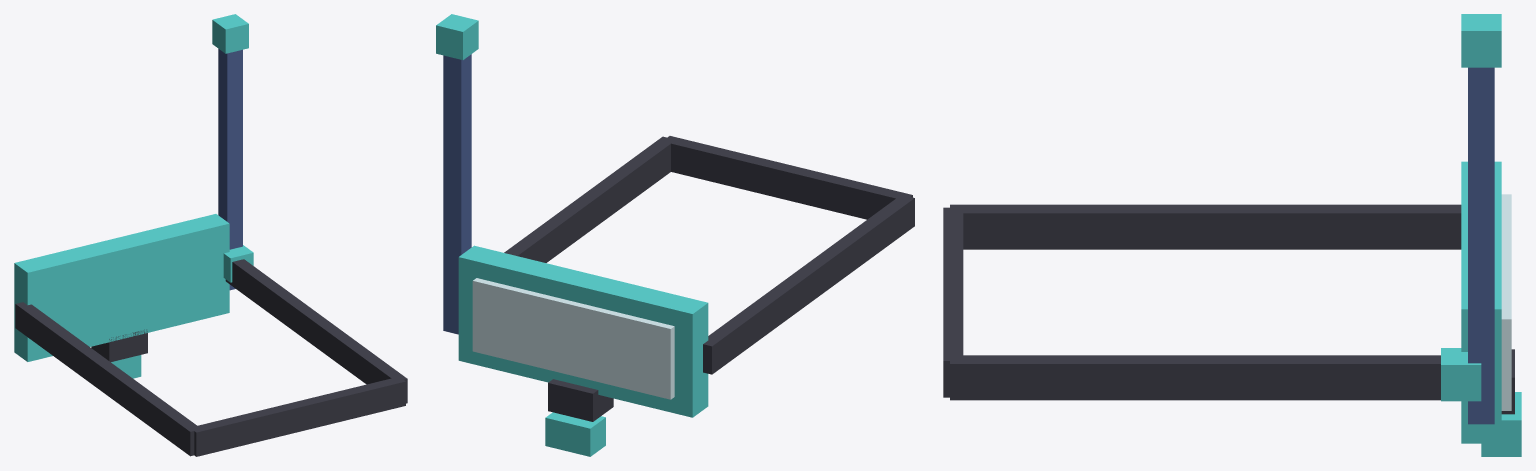
The model's file is mascara_snorkel.glb.
3 renders of one model, left to right at view 1: azimuth 30°, elevation 25°; view 2: azimuth 150°, elevation 25°; view 3: azimuth 270°, elevation 25°, orthographic. The views are drawn at different scales.
Visible parts, largest first — view 1: mascara_snorkel; view 2: mascara_snorkel; view 3: mascara_snorkel.
Part boxes in pixels (bbox=[...]): mascara_snorkel: bbox=[14, 14, 407, 456]; mascara_snorkel: bbox=[436, 14, 914, 456]; mascara_snorkel: bbox=[943, 14, 1521, 456].
Bounding box in the file's own units: 0.59 × 0.82 × 0.86.
